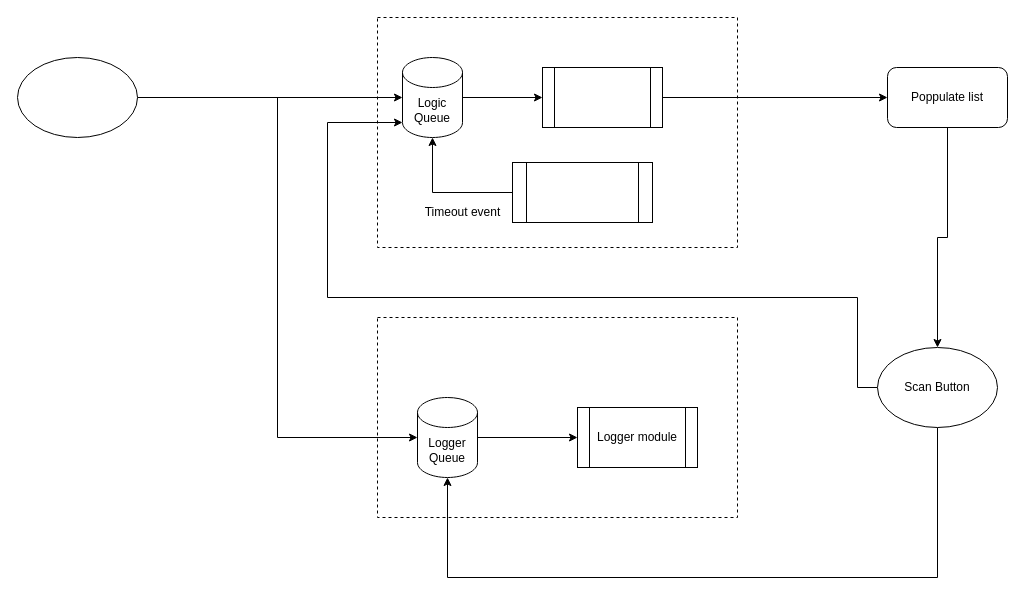
Image size: 1025x603. Some labels were removed from this diagram. Each missing label, with the centre of its shape:
Connect Button: the point at 77,97
Logic module: the point at 602,97
Timer module: the point at 582,192
